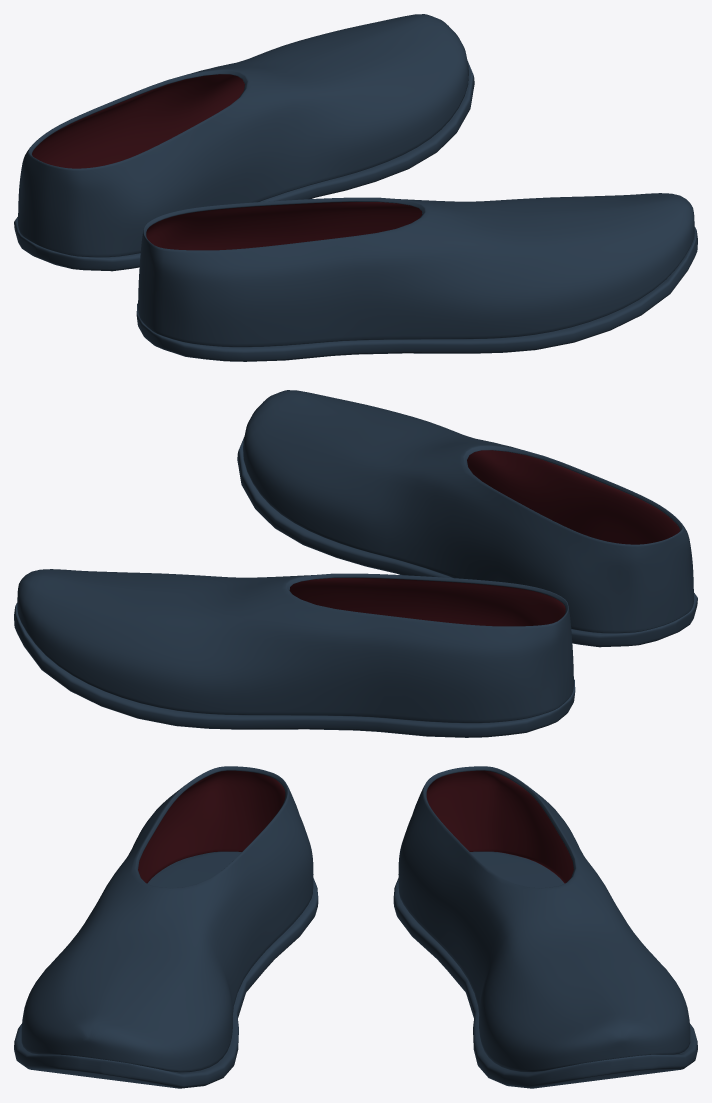
Rendered from Kalish.fbx.
3 renders of one model, top to bottom at view 1: azimuth 30°, elevation 25°; view 2: azimuth 150°, elevation 25°; view 3: azimuth 270°, elevation 25°, orthographic. The views are drawn at different scales.
Parts seen in each view (by area): view 1: Plane.001; view 2: Plane.001; view 3: Plane.001.
Boxes of the visible parts, x1,y1,x2,y2 form: Plane.001: (14, 14, 697, 361); Plane.001: (14, 390, 697, 737); Plane.001: (14, 766, 697, 1088).
Bounding box in the file's own units: 4.75 × 1.03 × 5.51.
2 materials, 2 textured.
